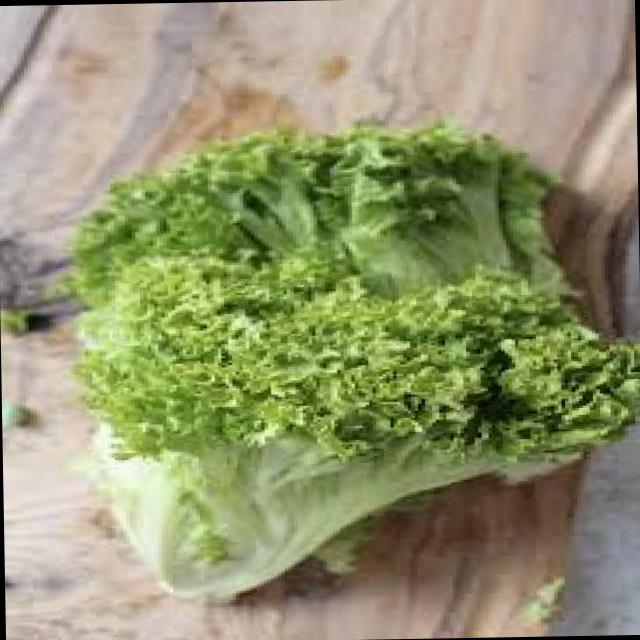Lettuce-Ready-to-Harvest: (70, 128, 640, 595)
